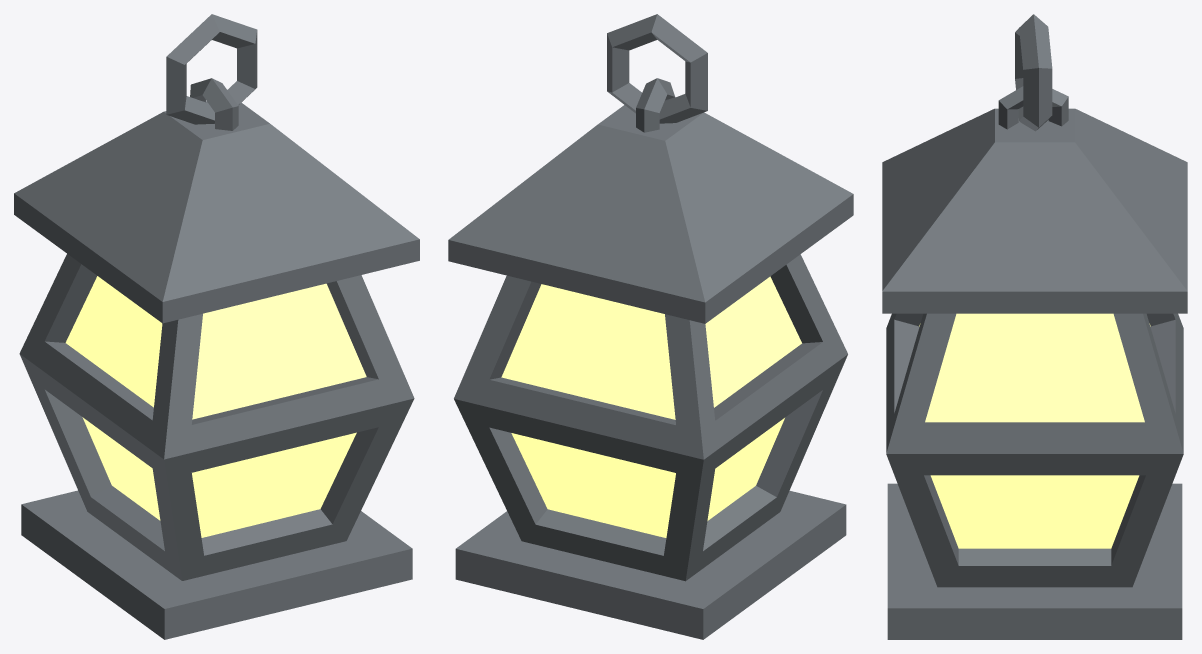
File: CleaningRoom_Lantern.fbx
The picture shows the model from 3 angles, left to right: view 1: azimuth 30°, elevation 25°; view 2: azimuth 150°, elevation 25°; view 3: azimuth 270°, elevation 25°; orthographic projection. The views are drawn at different scales.
Parts seen in each view (by area): view 1: Lamp; view 2: Lamp; view 3: Lamp.
Part boxes in pixels (x1,y1,x2,y2): Lamp: (14, 14, 419, 639); Lamp: (448, 14, 853, 639); Lamp: (882, 14, 1187, 639).
Size of the model in its own units: 84.18 by 170 by 84.18.
